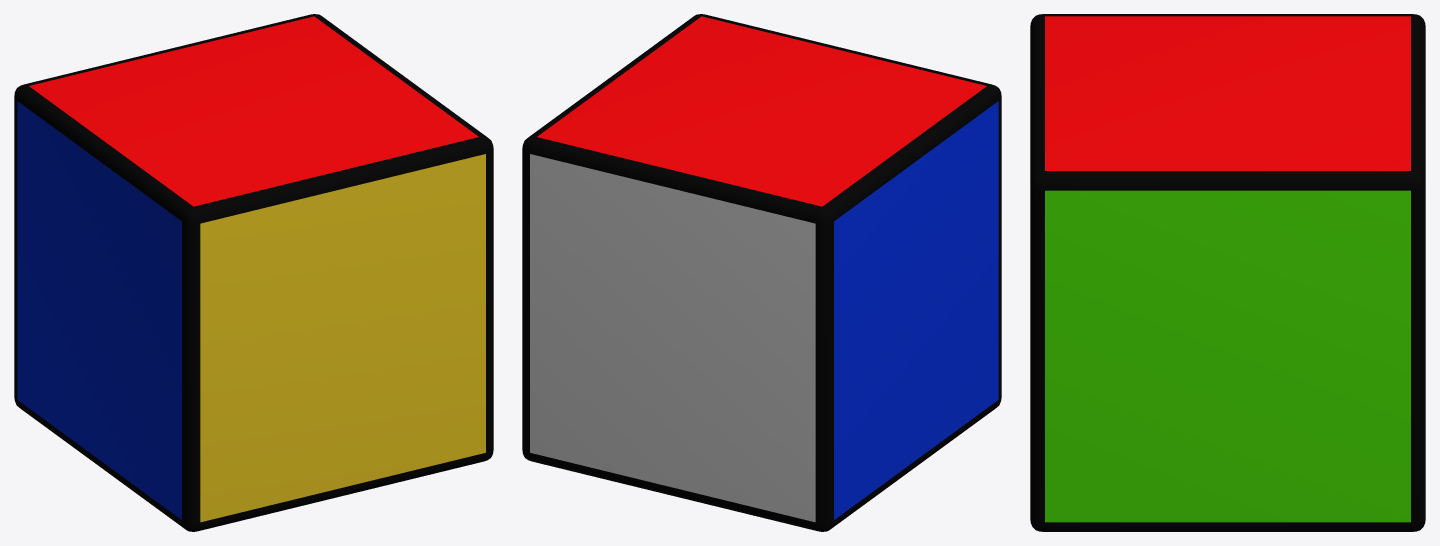
The model's file is rubiks_cube.glb.
3 renders of one model, left to right at view 1: azimuth 30°, elevation 25°; view 2: azimuth 150°, elevation 25°; view 3: azimuth 270°, elevation 25°, orthographic. The views are drawn at different scales.
Visible parts, largest first — view 1: Cube; view 2: Cube; view 3: Cube.
Part boxes in pixels (x1=…): Cube: x1=14, y1=14, x2=493, y2=531; Cube: x1=522, y1=14, x2=1001, y2=531; Cube: x1=1030, y1=14, x2=1425, y2=531.
Bounding box in the file's own units: 2 × 2 × 2.
